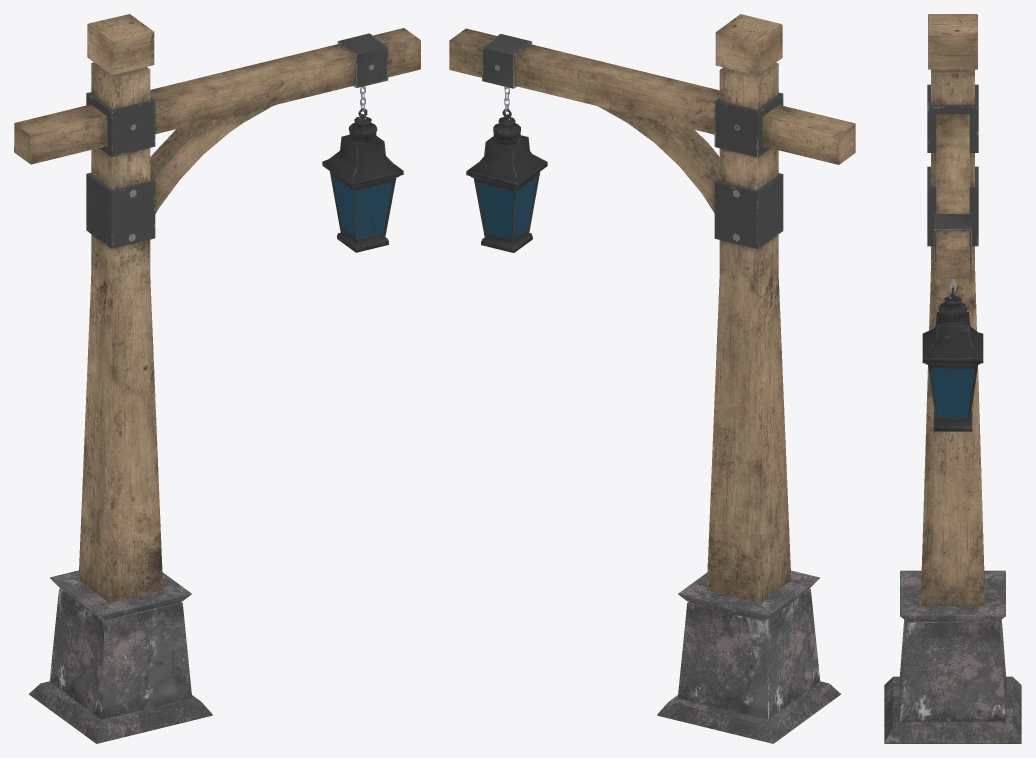
Rendered from lantern.glb.
The picture shows the model from 3 angles, left to right: view 1: azimuth 30°, elevation 25°; view 2: azimuth 150°, elevation 25°; view 3: azimuth 270°, elevation 25°; orthographic projection.
Visible parts, largest first — view 1: LanternPole_Body; view 2: LanternPole_Body; view 3: LanternPole_Body.
Part boxes in pixels (x1,y1,x2,y2): LanternPole_Body: (14,14,420,743); LanternPole_Body: (449,14,855,743); LanternPole_Body: (884,14,1021,743).
Size of the model in its own units: 0.3018 by 0.5 by 0.0902.
Materials: 1 (1 with a texture image).
